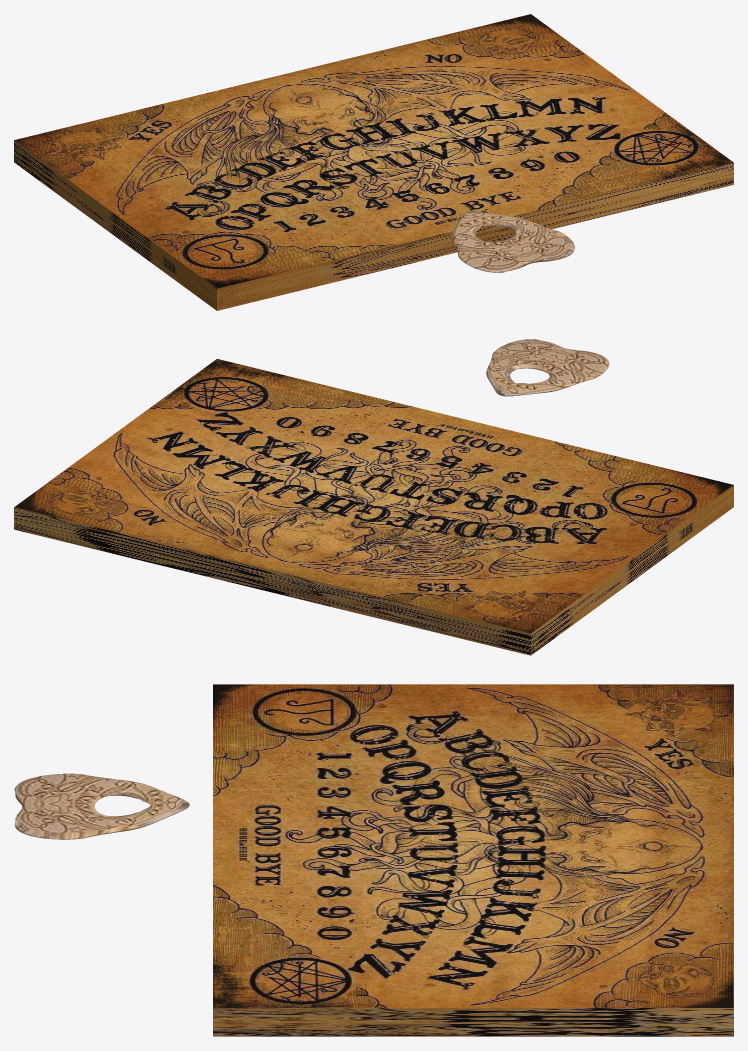
Rendered from Planche Ouija.fbx.
The picture shows the model from 3 angles, top to bottom: view 1: azimuth 30°, elevation 25°; view 2: azimuth 150°, elevation 25°; view 3: azimuth 270°, elevation 25°; orthographic projection. The views are drawn at different scales.
Parts seen in each view (by area): view 1: Cube, Plane; view 2: Cube, Plane; view 3: Cube, Plane.
Part boxes in pixels (left/top/right/bottom): Cube: left=14, top=14, right=733, bottom=310; Plane: left=452, top=211, right=574, bottom=272; Cube: left=14, top=359, right=733, bottom=655; Plane: left=486, top=339, right=609, bottom=396; Cube: left=213, top=684, right=733, bottom=1036; Plane: left=14, top=773, right=189, bottom=839.
Size of the model in its own units: 1009 by 89.58 by 949.
Materials: 2 (2 with a texture image).
